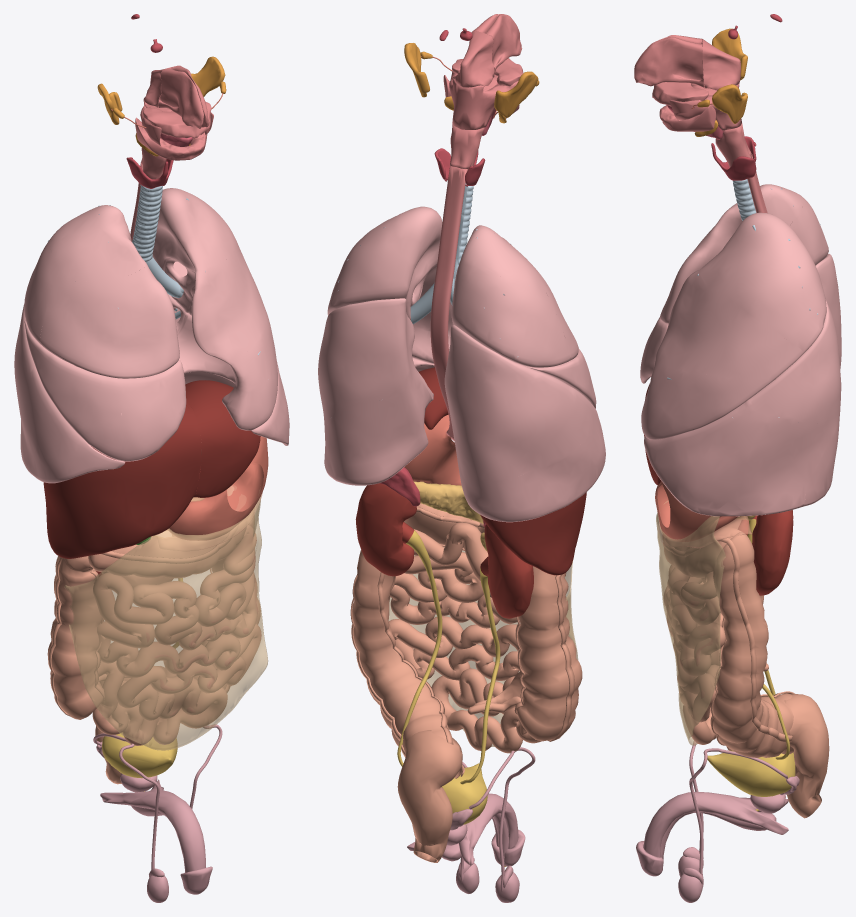
The model's file is visceras.glb.
The picture shows the model from 3 angles, left to right: view 1: azimuth 30°, elevation 25°; view 2: azimuth 150°, elevation 25°; view 3: azimuth 270°, elevation 25°; orthographic projection. The views are drawn at different scales.
Parts seen in each view (by area): view 1: Greater omentum, Jejunum, Superior lobe of right lung, Liver, Superior lobe of left lung, Middle lobe of right lung, Inferior lobe of right lung, Ascending colon, Stomach, Inferior lobe of left lung, Transverse colon, Corpus cavernosum of penis (+10 smaller); view 2: Inferior lobe of right lung, Inferior lobe of left lung, Jejunum, Superior lobe of right lung, Superior lobe of left lung, Ascending colon, Descending colon, Sigmoid colon, Liver, Kidney.l, Oesophagus, Kidney.r (+24 smaller); view 3: Superior lobe of left lung, Inferior lobe of left lung, Greater omentum, Descending colon, Jejunum, Superior lobe of right lung, Sigmoid colon, Corpus cavernosum of penis, Mucosa of nasal cavity, Kidney.l, Urinary bladder, Stomach (+18 smaller).
Part boxes in pixels (<box>): Greater omentum: <box>64,491,267,750</box>; Jejunum: <box>92,525,261,745</box>; Superior lobe of right lung: <box>24,205,179,378</box>; Liver: <box>43,380,260,558</box>; Superior lobe of left lung: <box>152,188,277,430</box>; Middle lobe of right lung: <box>24,319,186,461</box>; Inferior lobe of right lung: <box>14,304,125,483</box>; Ascending colon: <box>47,556,102,719</box>; Stomach: <box>167,436,268,540</box>; Inferior lobe of left lung: <box>168,261,289,445</box>; Transverse colon: <box>88,486,246,577</box>; Corpus cavernosum of penis: <box>100,779,205,872</box>; Inferior lobe of right lung: <box>444,325,605,522</box>; Inferior lobe of left lung: <box>318,298,434,485</box>; Jejunum: <box>388,529,541,753</box>; Superior lobe of right lung: <box>451,225,578,367</box>; Superior lobe of left lung: <box>327,206,452,363</box>; Ascending colon: <box>517,566,582,741</box>; Descending colon: <box>352,550,462,778</box>; Sigmoid colon: <box>397,730,462,862</box>; Liver: <box>419,367,586,575</box>; Kidney.l: <box>355,483,416,576</box>; Oesophagus: <box>430,165,467,441</box>; Kidney.r: <box>484,524,533,618</box>; Superior lobe of left lung: <box>641,212,826,439</box>; Inferior lobe of left lung: <box>644,299,841,516</box>; Greater omentum: <box>656,500,725,745</box>; Descending colon: <box>713,532,793,757</box>; Jejunum: <box>664,565,725,744</box>; Superior lobe of right lung: <box>660,184,828,323</box>; Sigmoid colon: <box>784,694,829,818</box>; Corpus cavernosum of penis: <box>643,792,788,857</box>; Mucosa of nasal cavity: <box>634,35,703,87</box>; Kidney.l: <box>752,510,793,595</box>; Urinary bladder: <box>707,750,795,796</box>; Stomach: <box>655,481,737,541</box>.
Bounding box in the file's own units: 0.261 × 0.8931 × 0.1913.
